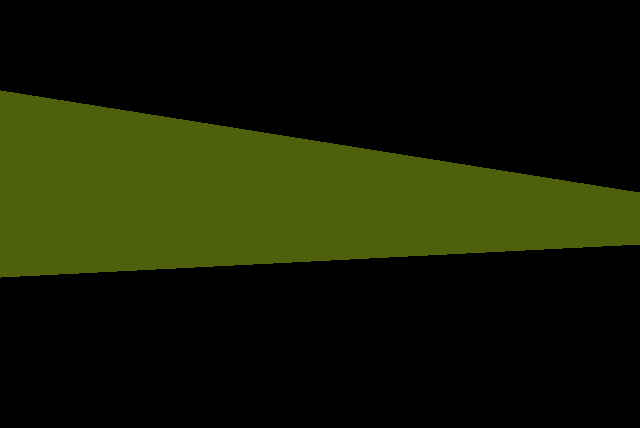Train: (0, 90, 640, 277)
